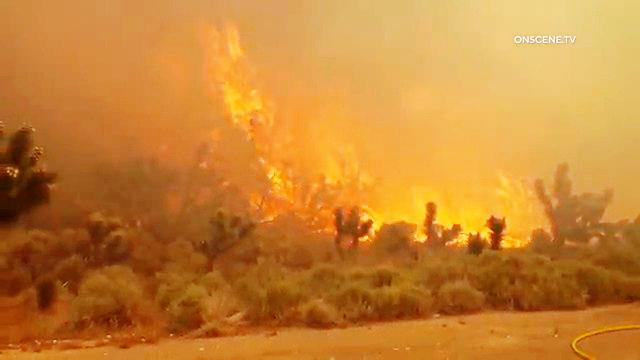fire: (191, 38, 331, 214), (259, 162, 521, 240)
